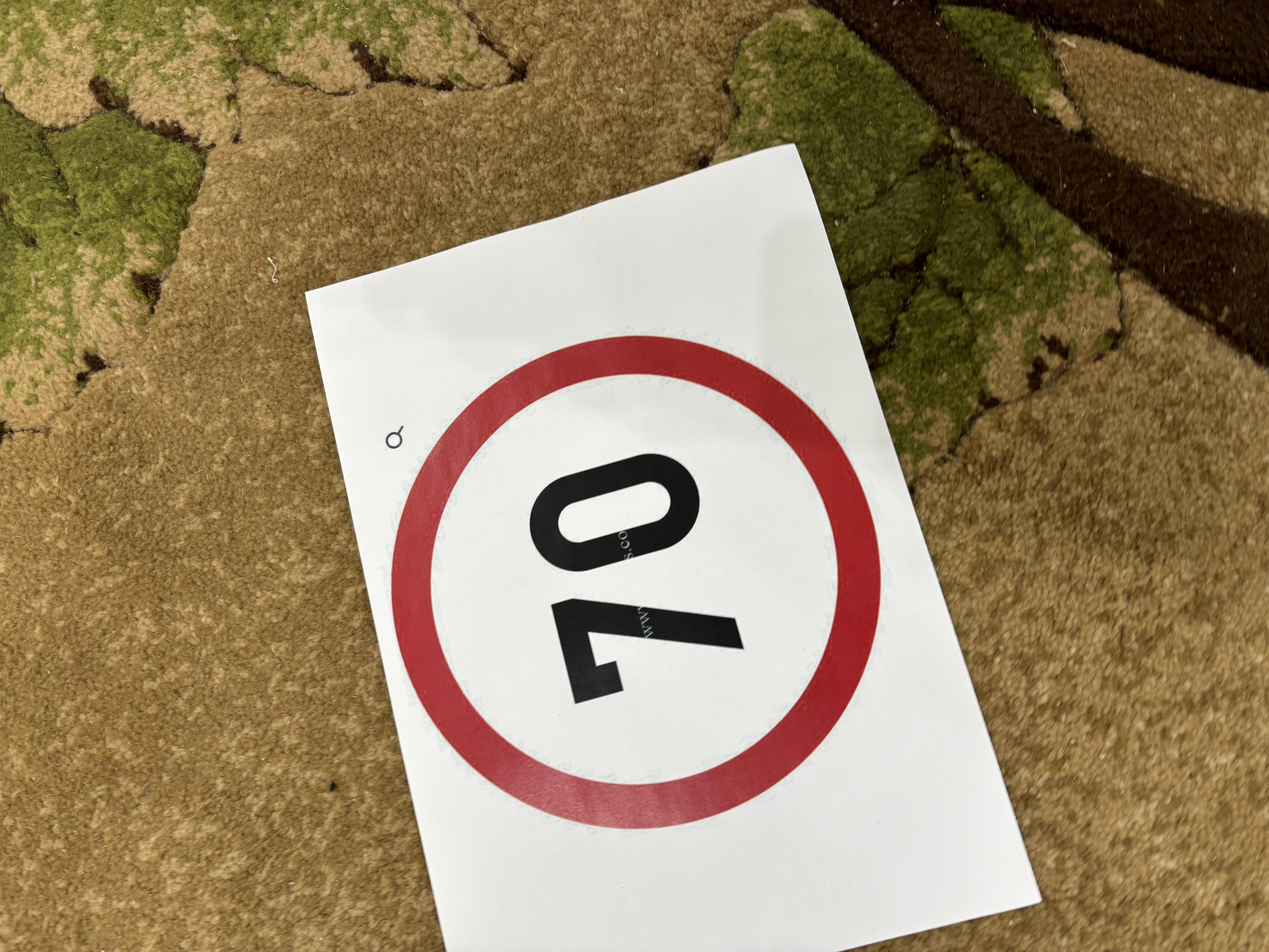70-Speed: (389, 329, 889, 834)
